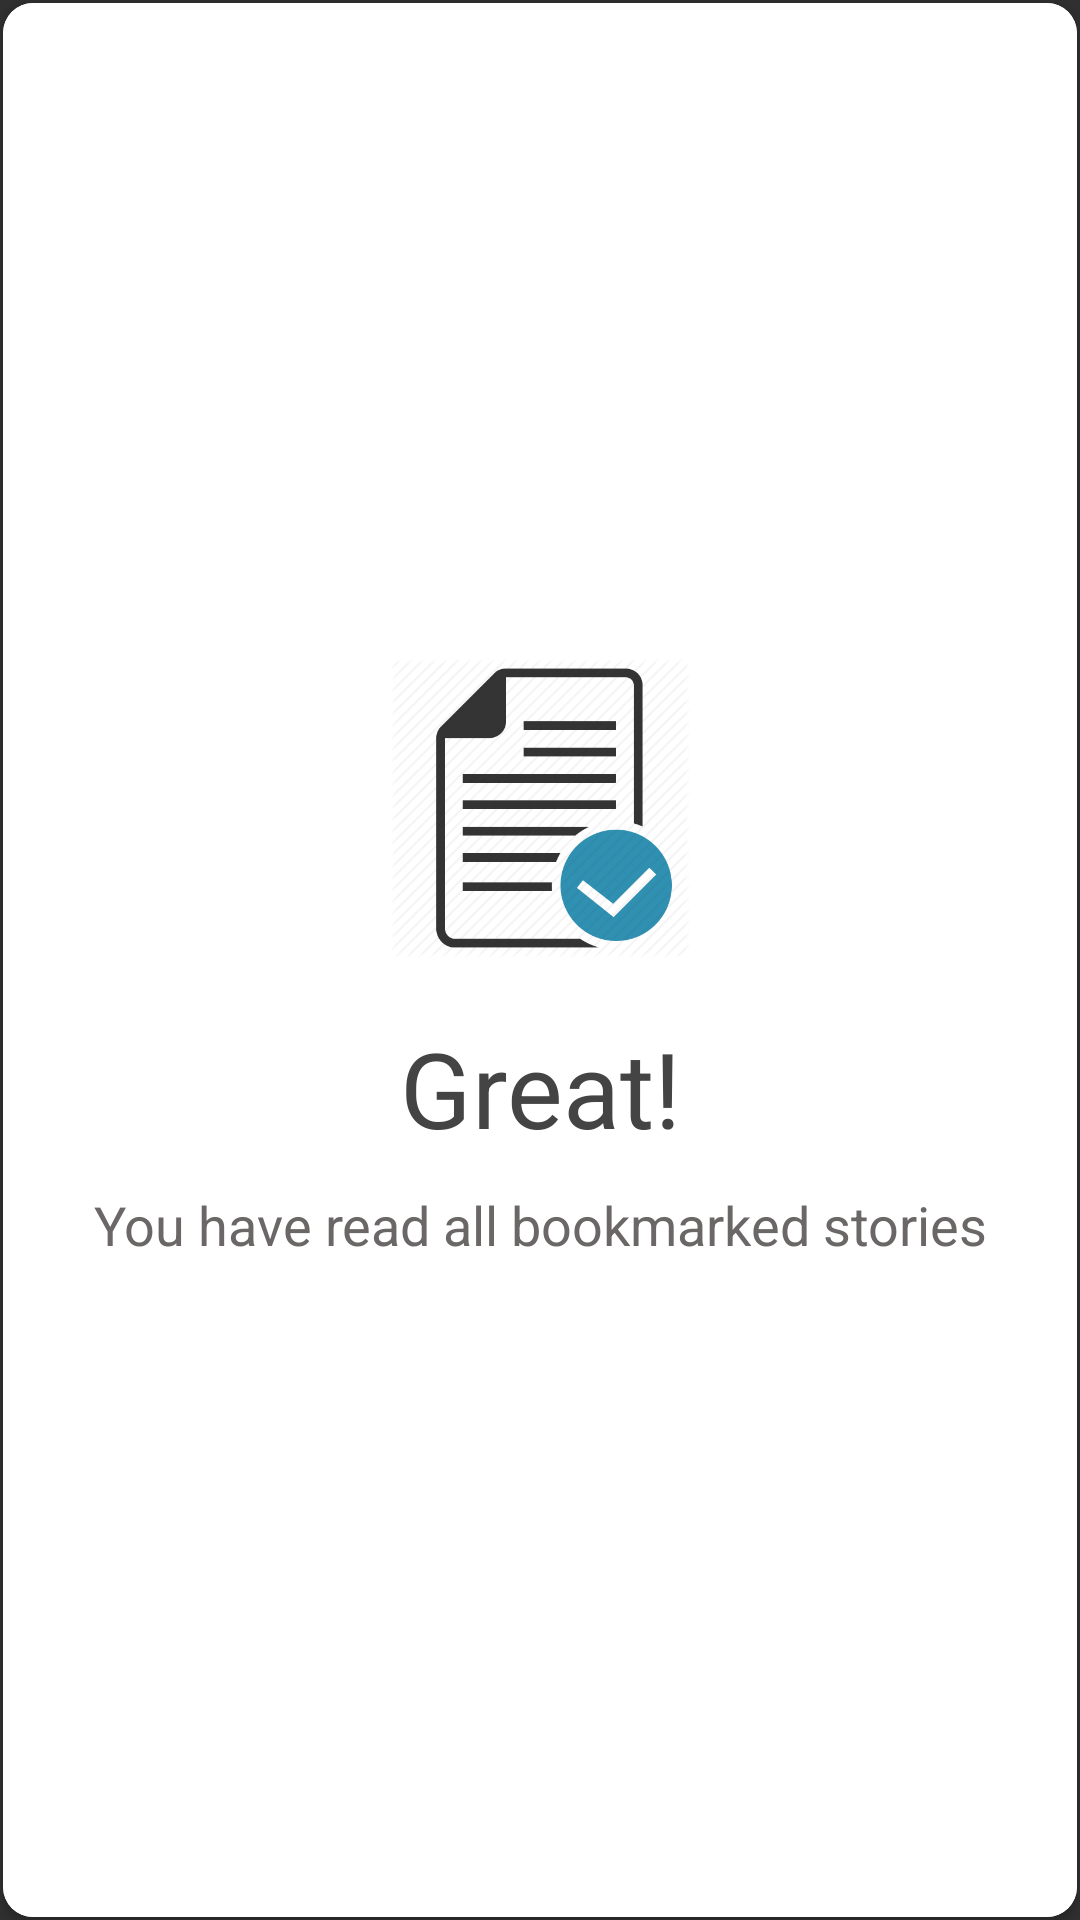

Screen size 1080 x 1920. Icon name, then its box in pixels as [left=x1, top=y1, right=x2, bottom=y2]:
completebookmark: [left=436, top=668, right=672, bottom=948]
